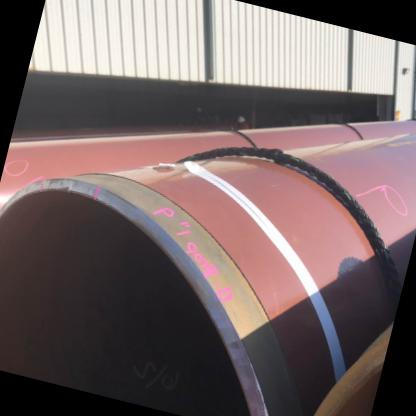Bevel: (49, 179, 78, 193)
